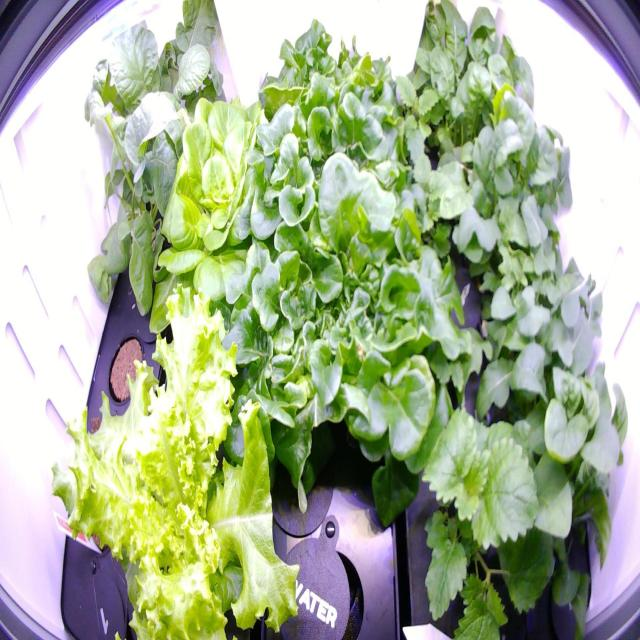Ready: (140, 85, 308, 343)
pod: (97, 327, 149, 411)
